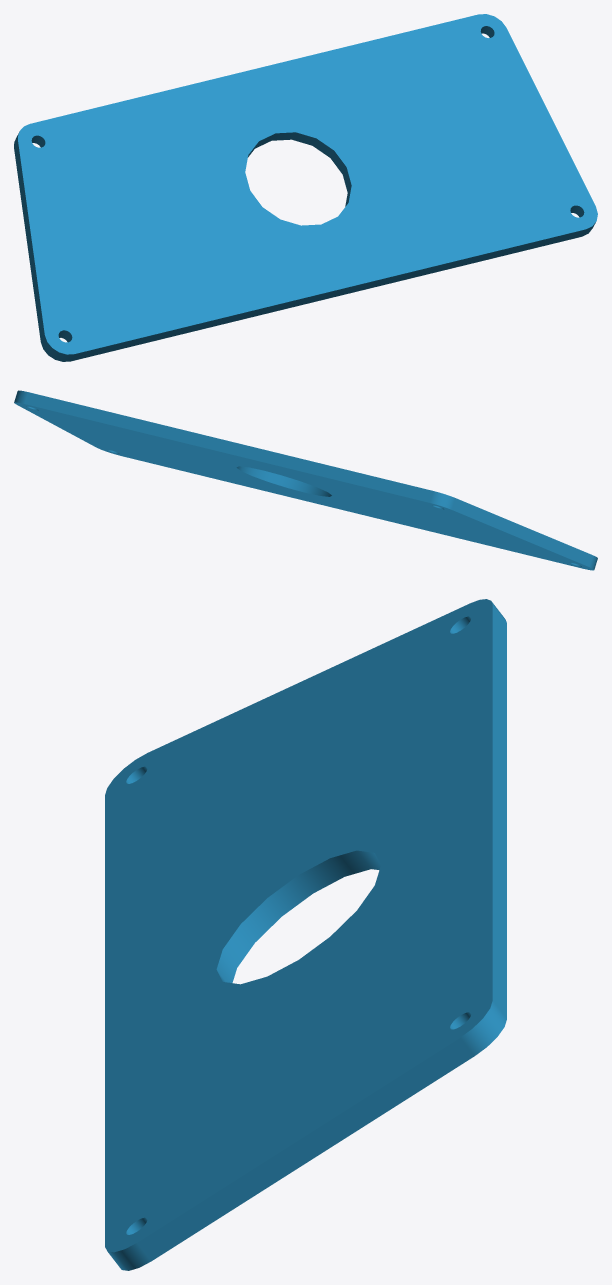
3 views of the same model, one above another, from view 1: azimuth 30°, elevation 25°; view 2: azimuth 150°, elevation 25°; view 3: azimuth 270°, elevation 25° (orthographic). The views are drawn at different scales.
Parts seen in each view (by area): view 1: mesh12679, mesh12681, mesh12684, mesh12692; view 2: mesh12680, mesh12683, mesh12684, mesh12692, mesh12687; view 3: mesh12679, mesh12682, mesh12683, mesh12692, mesh12688.
Boxes of the visible parts, x1=… form: mesh12679: x1=18, y1=14, x2=597, y2=354; mesh12681: x1=70, y1=229, x2=585, y2=361; mesh12684: x1=14, y1=141, x2=44, y2=341; mesh12692: x1=248, y1=132, x2=351, y2=206; mesh12680: x1=14, y1=402, x2=593, y2=570; mesh12683: x1=25, y1=392, x2=433, y2=502; mesh12684: x1=452, y1=498, x2=592, y2=566; mesh12692: x1=236, y1=466, x2=331, y2=496; mesh12687: x1=430, y1=491, x2=455, y2=509; mesh12679: x1=105, y1=599, x2=492, y2=1252; mesh12682: x1=137, y1=1037, x2=474, y2=1261; mesh12683: x1=492, y1=605, x2=506, y2=1018; mesh12692: x1=216, y1=850, x2=380, y2=982; mesh12688: x1=460, y1=1000, x2=506, y2=1055.
Bounding box in the file's own units: 0.1449 × 0.037 × 0.0509.
